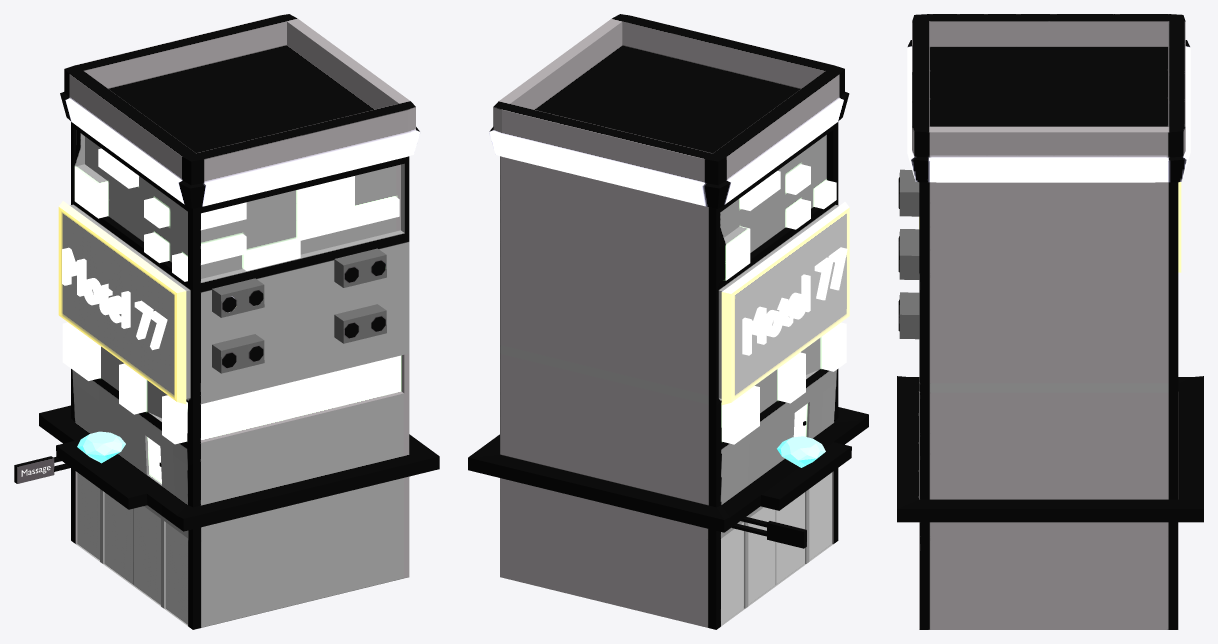
File: Building 3.fbx
The picture shows the model from 3 angles, left to right: view 1: azimuth 30°, elevation 25°; view 2: azimuth 150°, elevation 25°; view 3: azimuth 270°, elevation 25°; orthographic projection. The views are drawn at different scales.
Visible parts, largest first — view 1: Cube.019; view 2: Cube.019; view 3: Cube.019.
Boxes of the visible parts, x1=… form: Cube.019: x1=14, y1=14, x2=439, y2=629; Cube.019: x1=468, y1=14, x2=868, y2=629; Cube.019: x1=897, y1=14, x2=1203, y2=629.
Bounding box in the file's own units: 1850 × 2700 × 1500.
